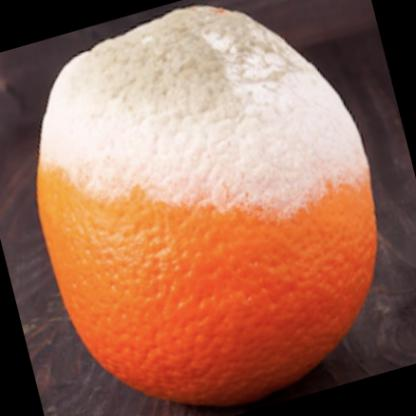rotten_orange: (21, 6, 391, 401)
